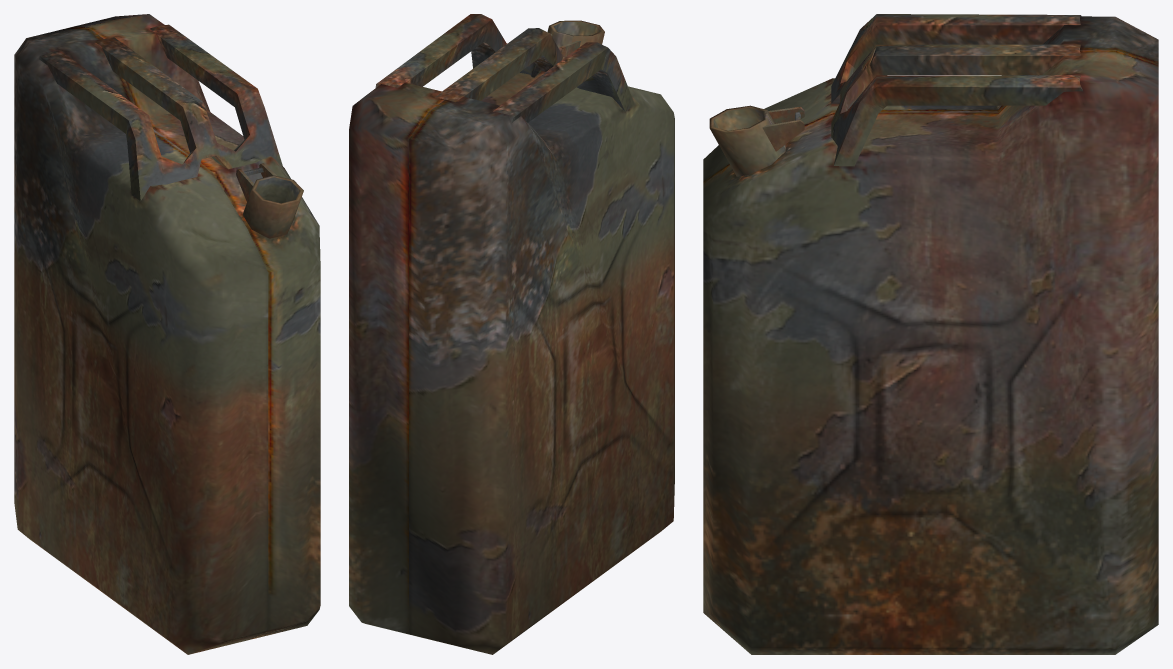
File: kanistra.FBX
The picture shows the model from 3 angles, left to right: view 1: azimuth 30°, elevation 25°; view 2: azimuth 150°, elevation 25°; view 3: azimuth 270°, elevation 25°; orthographic projection. The views are drawn at different scales.
Parts seen in each view (by area): view 1: jerrycan; view 2: jerrycan; view 3: jerrycan.
Boxes of the visible parts, box(x1,y1,x2,y2) form: jerrycan: box(14, 14, 320, 654); jerrycan: box(349, 14, 674, 654); jerrycan: box(703, 14, 1158, 654).
Bounding box in the file's own units: 0.178 × 0.59 × 0.424.
